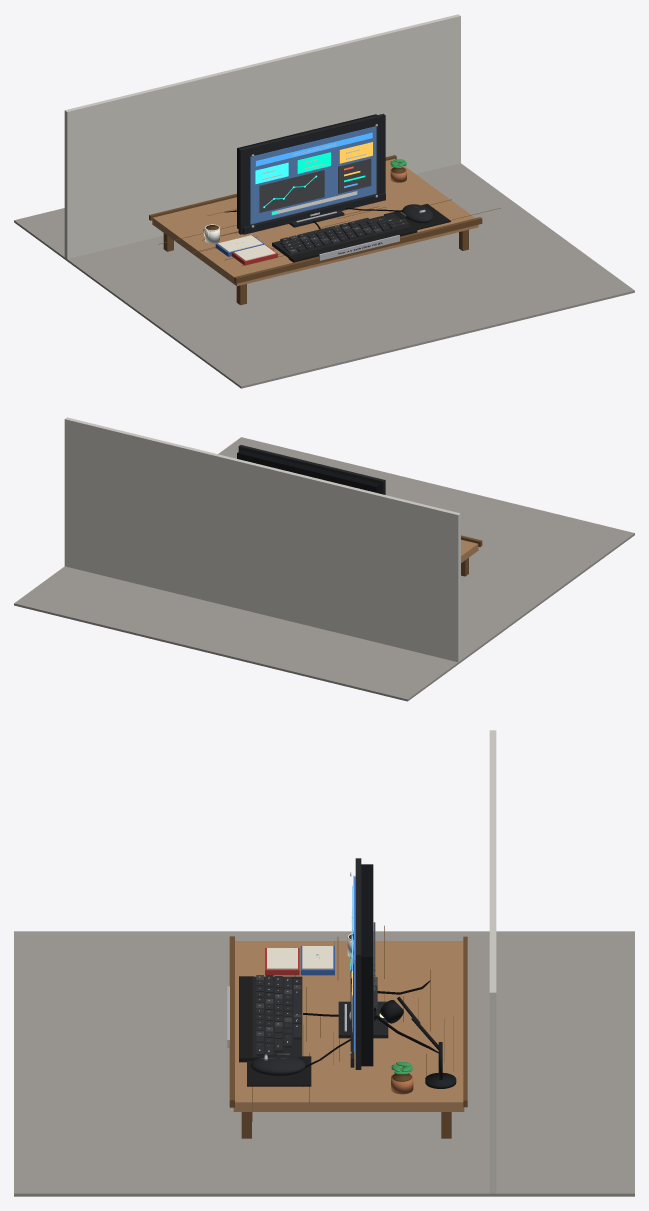
The model's file is monitor.glb.
3 renders of one model, top to bottom at view 1: azimuth 30°, elevation 25°; view 2: azimuth 150°, elevation 25°; view 3: azimuth 270°, elevation 25°, orthographic. The views are drawn at different scales.
Parts seen in each view (by area): view 1: Piso, Parede de fundo, Tampo principal da mesa, Camada de vidro reflexiva, Ecrã principal ligado, Moldura externa do monitor, Janela principal do ecrã, Borda frontal arredondada da mesa, Barra inferior da moldura, Painel lateral do ecrã, Apoio de pulso do teclado, Painel superior interface (+2 smaller); view 2: Parede de fundo, Piso, Corpo traseiro do monitor, Moldura externa do monitor; view 3: Piso, Tampo principal da mesa, Parede de fundo, Corpo traseiro do monitor, Base do teclado, Moldura externa do monitor, Apoio de pulso do teclado, Tapete do rato, Borda frontal arredondada da mesa, Corpo do rato, Borda traseira da mesa, Base larga do monitor (+2 smaller).
Boxes of the visible parts, left/top/right/bottom form: Piso: left=14, top=163, right=634, bottom=388; Parede de fundo: left=64, top=14, right=460, bottom=258; Tampo principal da mesa: left=152, top=159, right=478, bottom=286; Camada de vidro reflexiva: left=250, top=126, right=377, bottom=224; Ecrã principal ligado: left=250, top=126, right=376, bottom=223; Moldura externa do monitor: left=238, top=113, right=385, bottom=234; Janela principal do ecrã: left=259, top=170, right=324, bottom=212; Borda frontal arredondada da mesa: left=234, top=217, right=482, bottom=283; Barra inferior da moldura: left=242, top=193, right=385, bottom=234; Painel lateral do ecrã: left=338, top=158, right=371, bottom=193; Apoio de pulso do teclado: left=288, top=226, right=417, bottom=262; Painel superior interface: left=255, top=132, right=372, bottom=166; Parede de fundo: left=64, top=417, right=460, bottom=662; Piso: left=14, top=437, right=634, bottom=701; Corpo traseiro do monitor: left=237, top=450, right=380, bottom=493; Moldura externa do monitor: left=238, top=445, right=385, bottom=494; Piso: left=14, top=931, right=634, bottom=1196; Tampo principal da mesa: left=233, top=941, right=464, bottom=1111; Parede de fundo: left=489, top=730, right=496, bottom=1193; Corpo traseiro do monitor: left=361, top=864, right=373, bottom=1066; Base do teclado: left=252, top=976, right=302, bottom=1059; Moldura externa do monitor: left=355, top=858, right=361, bottom=1069; Apoio de pulso do teclado: left=239, top=976, right=253, bottom=1062; Tapete do rato: left=247, top=1056, right=311, bottom=1086; Borda frontal arredondada da mesa: left=229, top=936, right=234, bottom=1107; Corpo do rato: left=251, top=1054, right=305, bottom=1075; Borda traseira da mesa: left=463, top=936, right=467, bottom=1107; Base larga do monitor: left=338, top=1001, right=388, bottom=1038.
Bounding box in the file's own units: 14 × 5.07 × 14.
